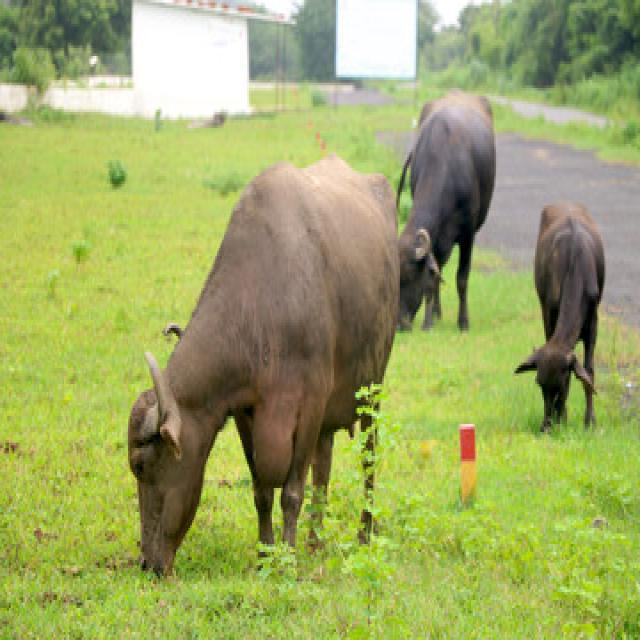Buffalo: (126, 159, 404, 581)
